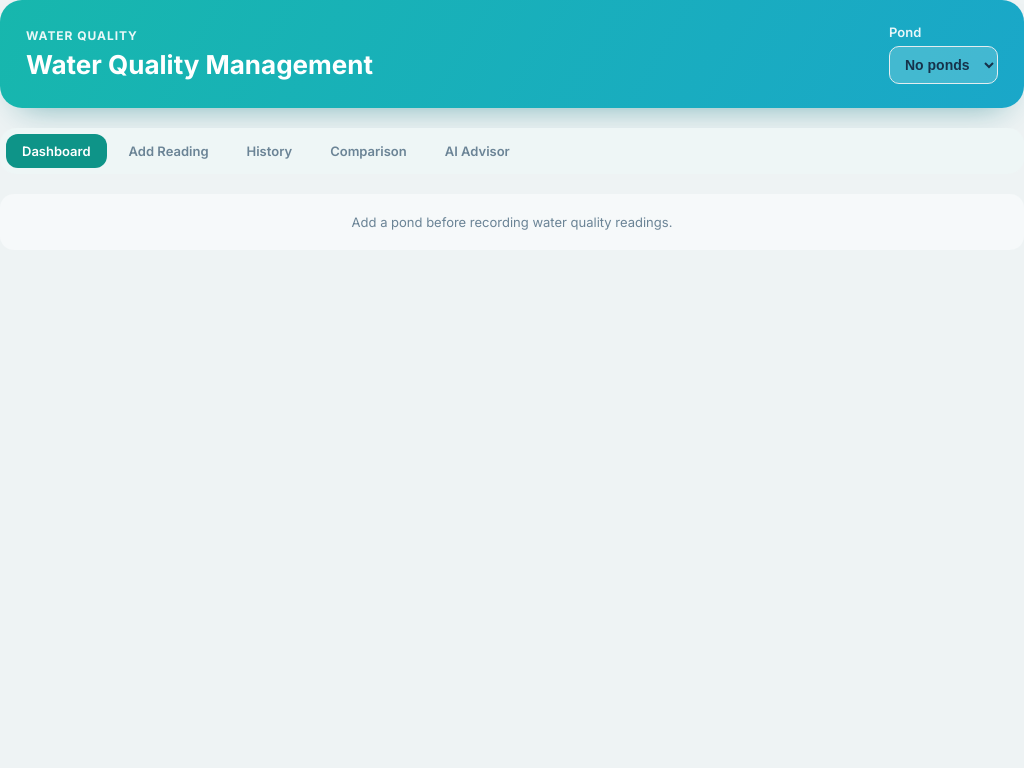
Test: WaterQualityManagement › compares the selected ponds
The image size is (1024, 768).
Expected: the heading "Water Quality Management" is shown, [26,49,373,80]
Click the button "Comparison": (368, 151) [314,134,423,168]
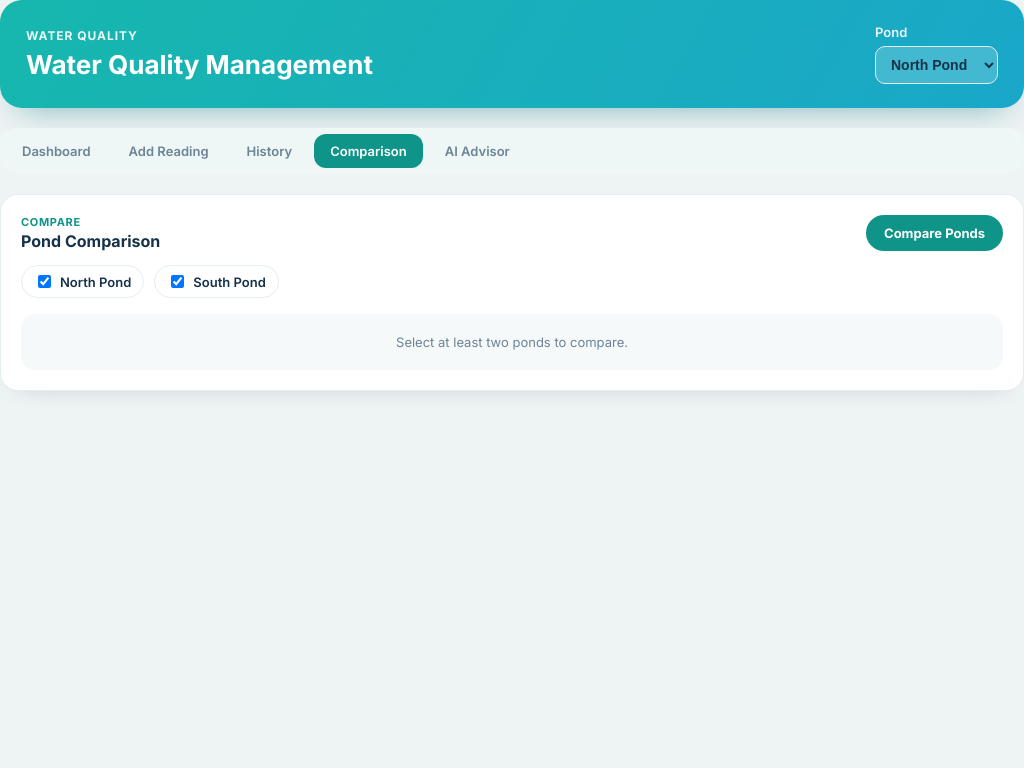
Click the button "Compare Ponds": (934, 233) [866,215,1003,251]
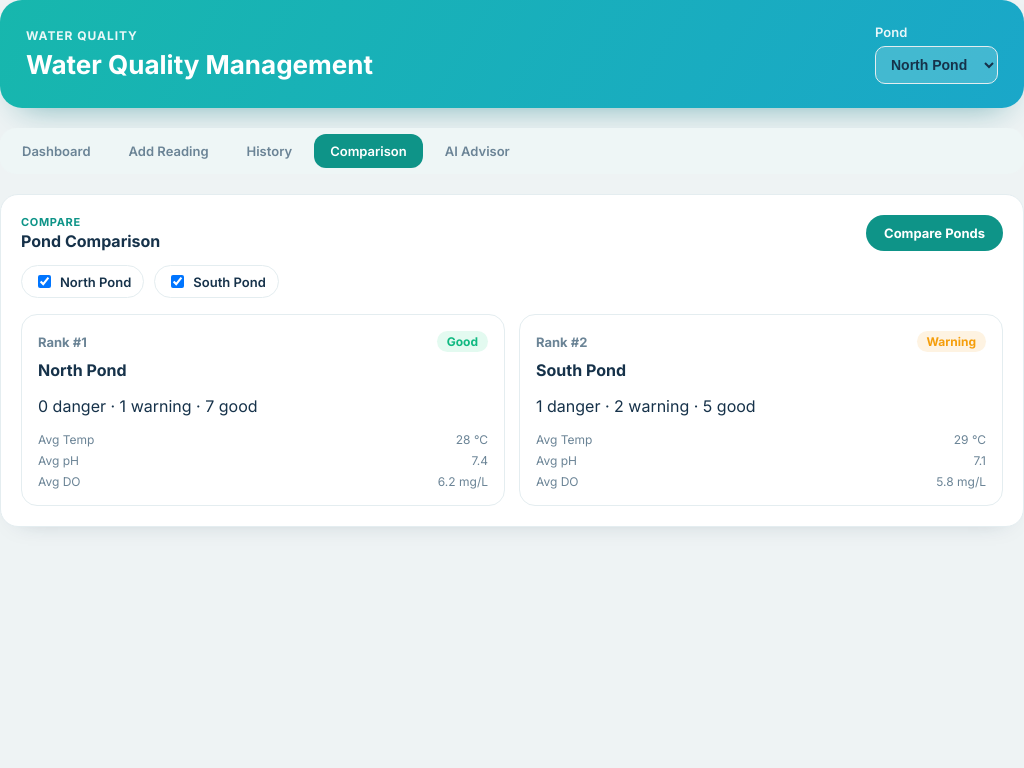
Expected: the text "Rank #1" is shown, [38,334,87,350]
Expected: the text "Avg Temp" in the row of "28 °C" is shown, [38,432,94,447]
